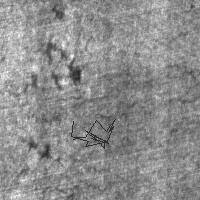crazing: (4, 39, 85, 97), (71, 119, 115, 148)
